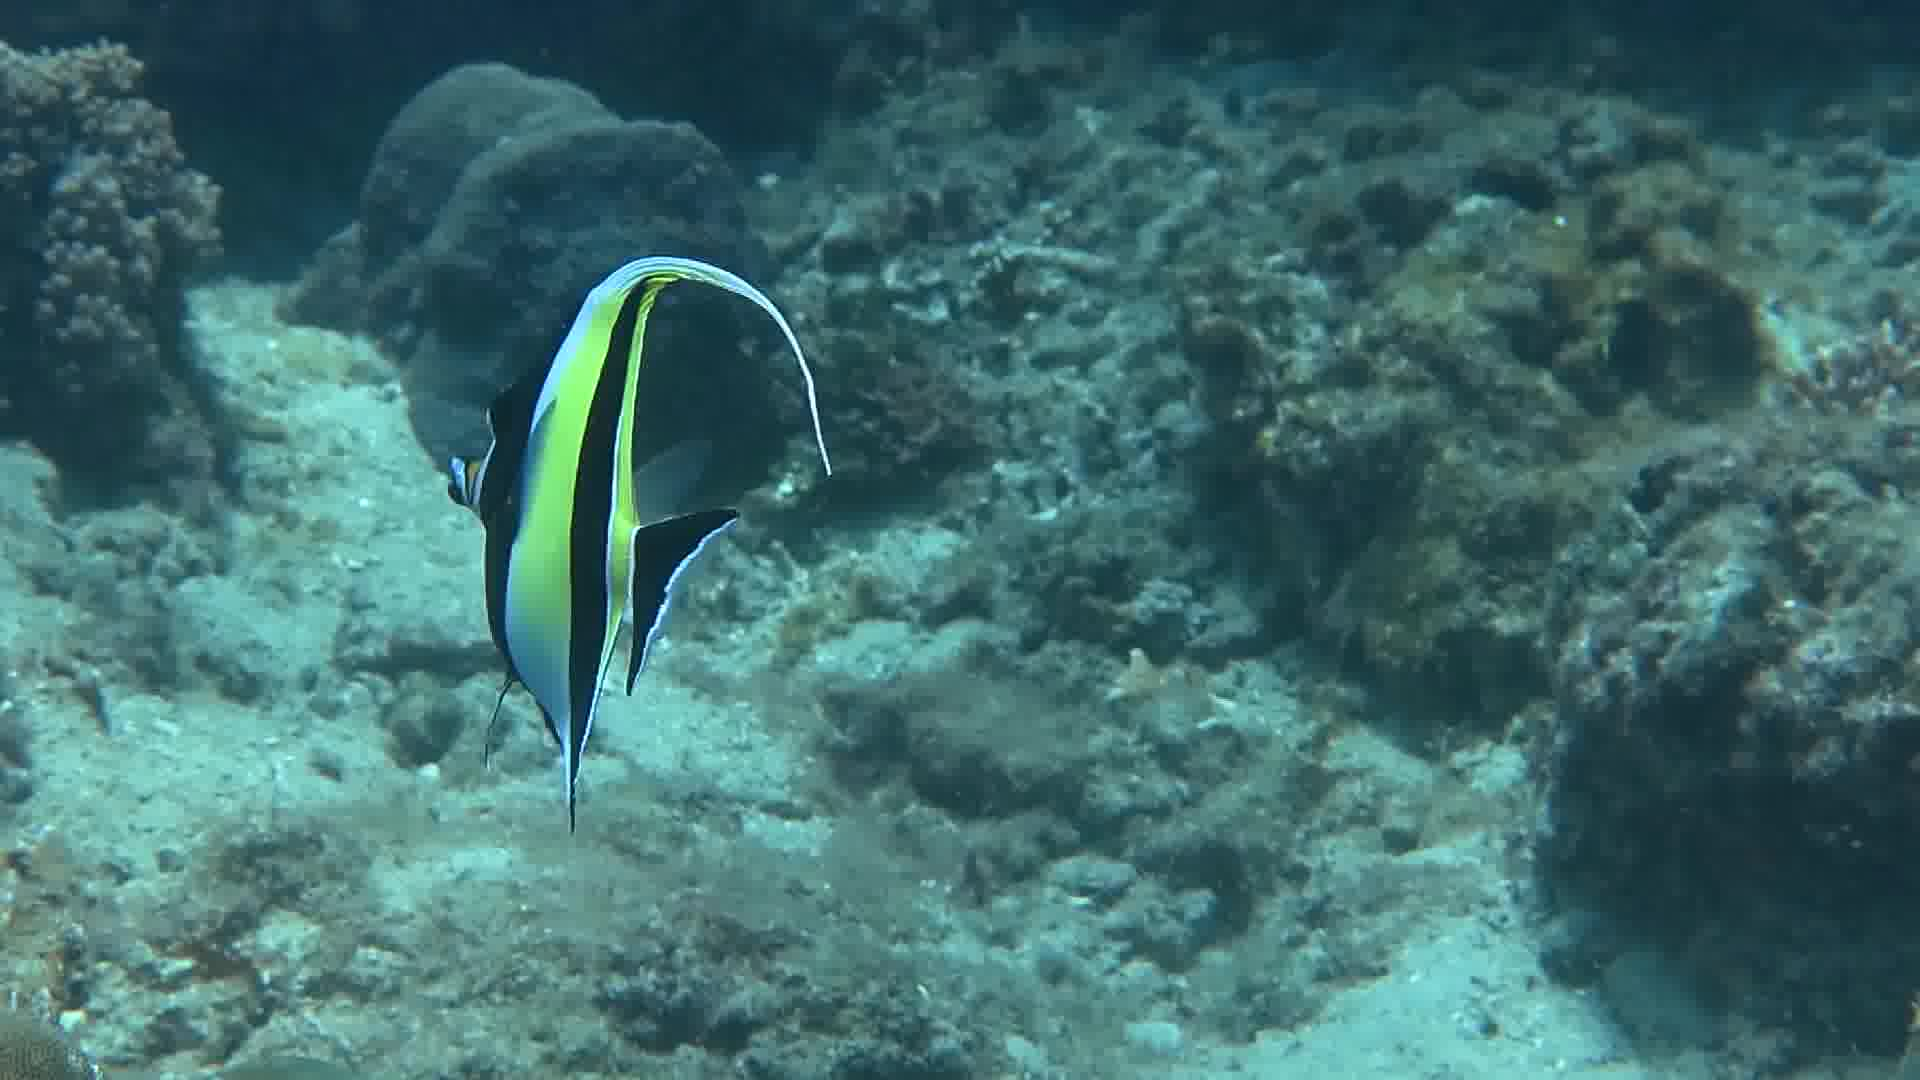Zanclus cornutus: (425, 236, 719, 787)
